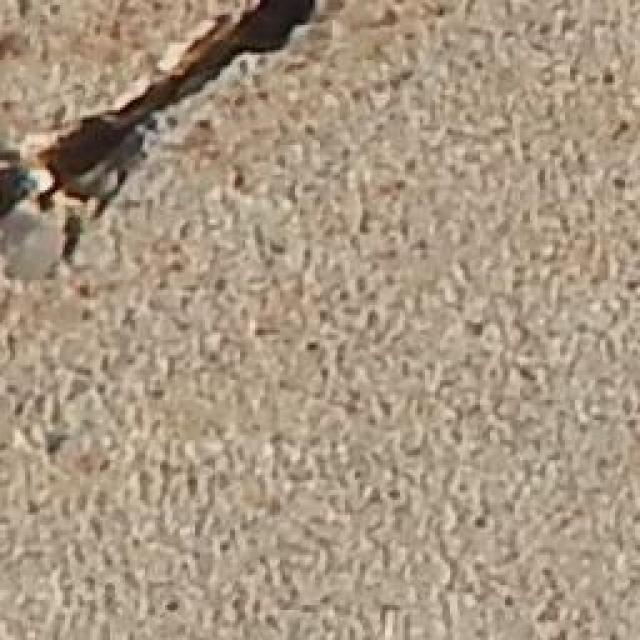concrete-crack: (0, 1, 321, 274)
